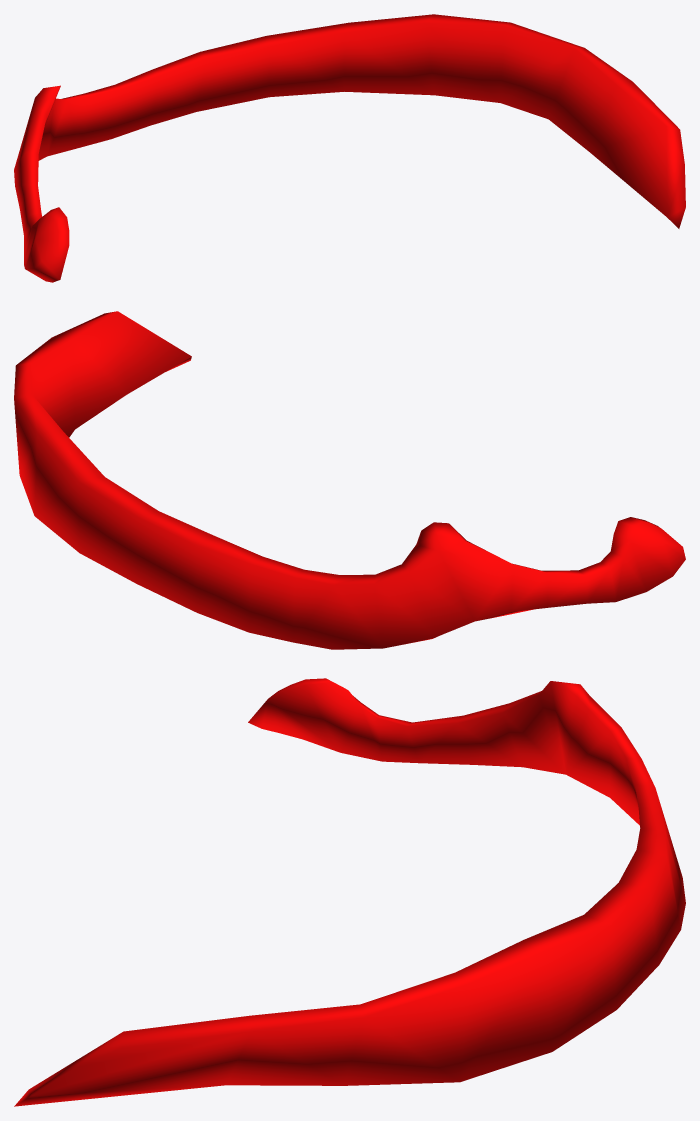
Rendered from SM_R_Ribs_2.FBX.
The picture shows the model from 3 angles, top to bottom: view 1: azimuth 30°, elevation 25°; view 2: azimuth 150°, elevation 25°; view 3: azimuth 270°, elevation 25°; orthographic projection. The views are drawn at different scales.
Visible parts, largest first — view 1: R_Ribs_2; view 2: R_Ribs_2; view 3: R_Ribs_2.
Boxes of the visible parts, x1,y1,x2,y2 form: R_Ribs_2: (14, 14, 685, 282); R_Ribs_2: (14, 311, 685, 649); R_Ribs_2: (14, 678, 685, 1106).
Size of the model in its own units: 12.42 by 2.03 by 8.9.
